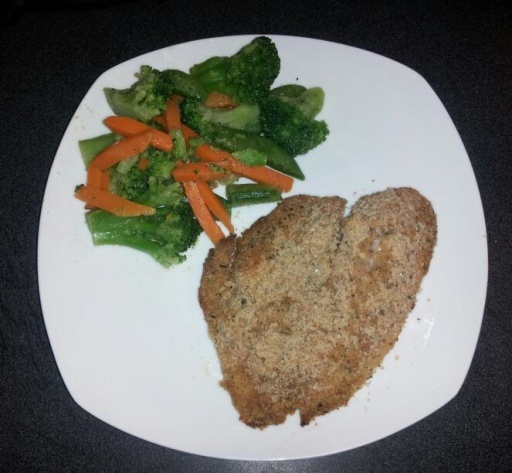background: (58, 26, 350, 316)
